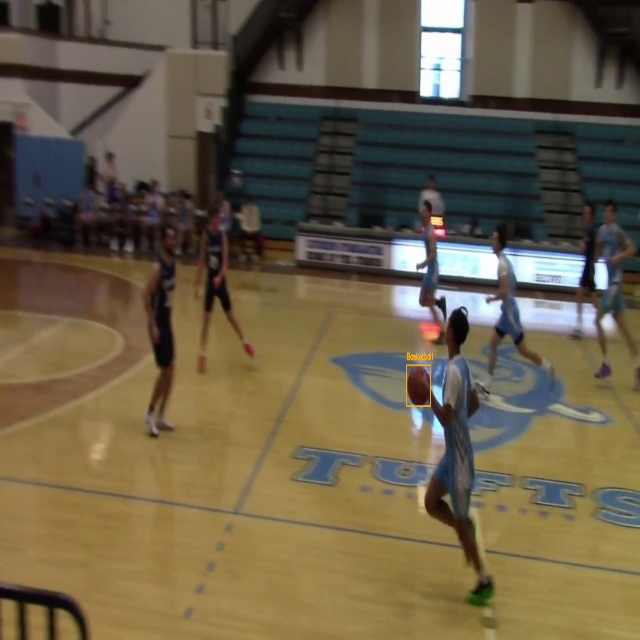Basketball: (407, 365, 431, 406)
